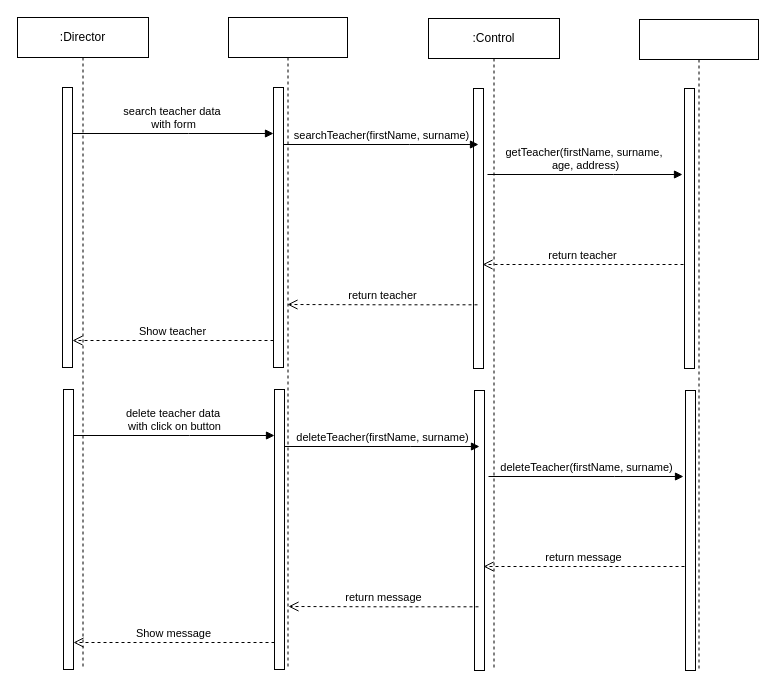
Some shapes in this 776 by 688 pixel diagram are drawn without their labels. Each missing label, with the centre of its shape:
:ApplicationIHM: point 288,343
:Database: point 698,344
